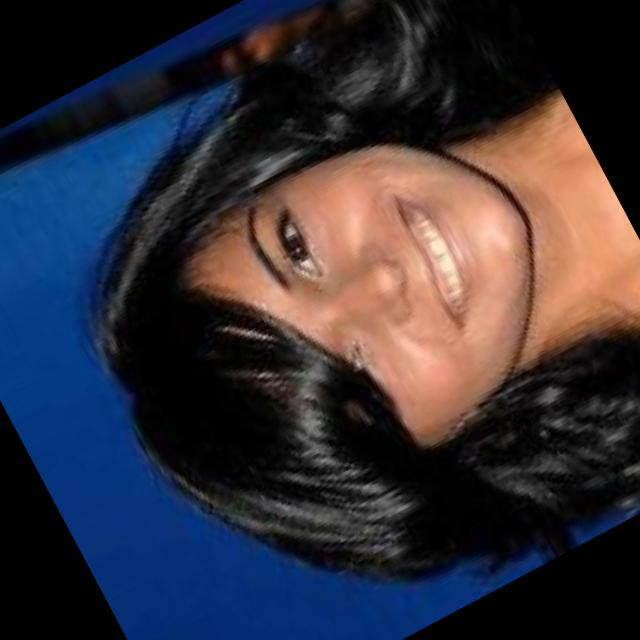bareface: (133, 103, 614, 558)
